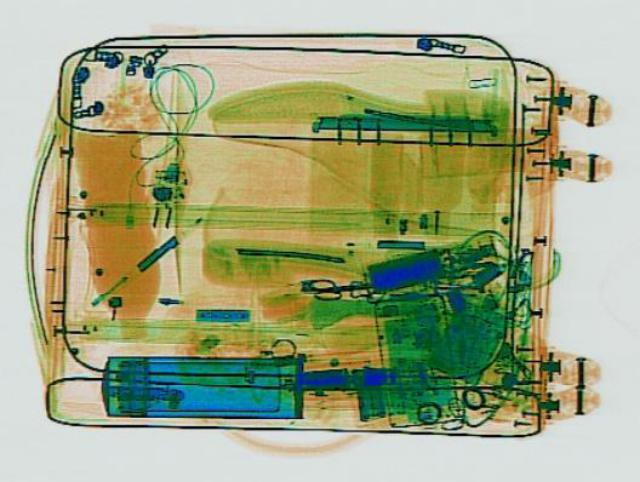Scissors: (304, 271, 381, 299)
